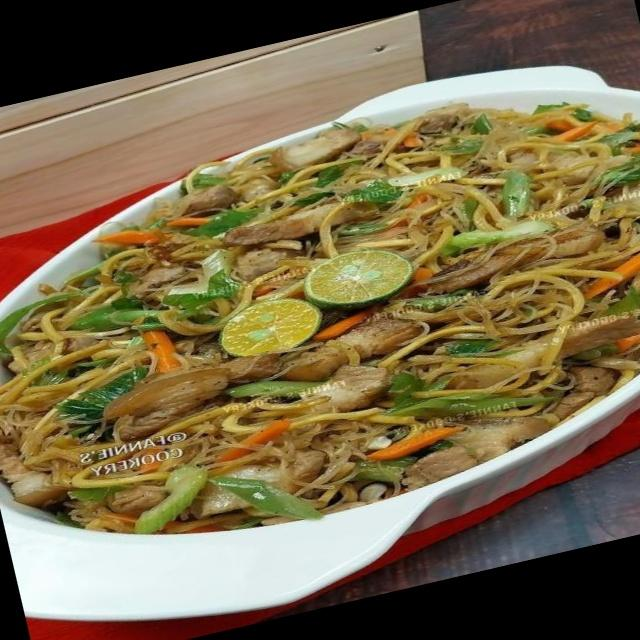pancit bihon: (0, 106, 637, 536)
